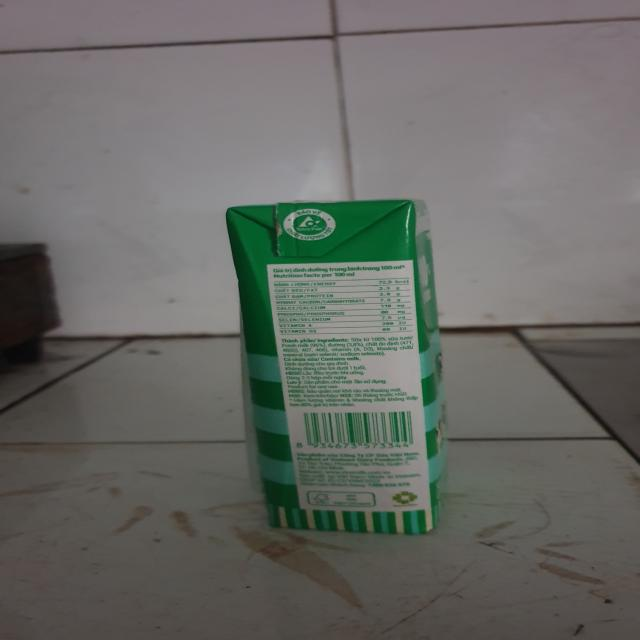Vina: (224, 200, 444, 538)
